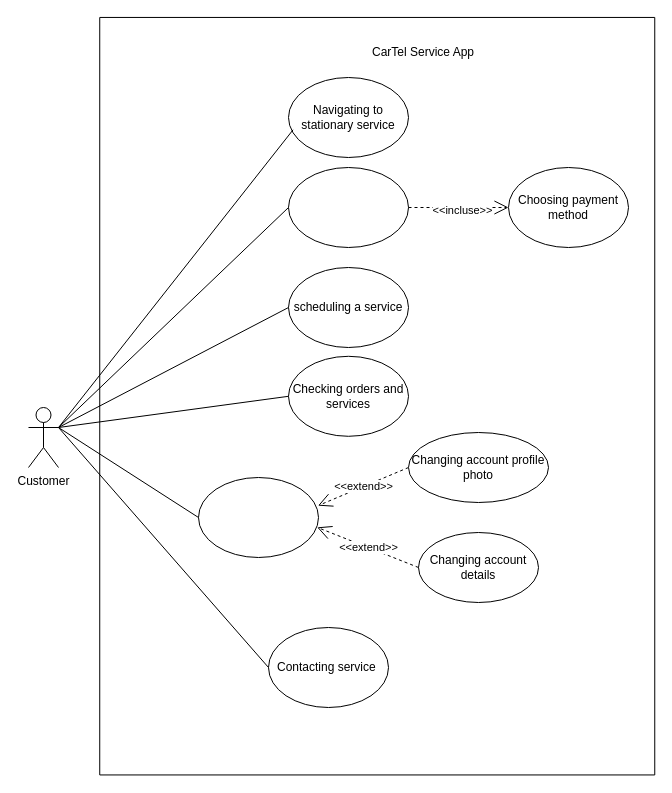
The diagram is 672 pixels wide and 793 high, and some of its shapes have lost their labels. The box of each missing label's shape, as (x1, y1, x2, y2) in pixels:
Checking profile: (198, 476, 318, 558)
Ordering car parts: (288, 166, 408, 248)
